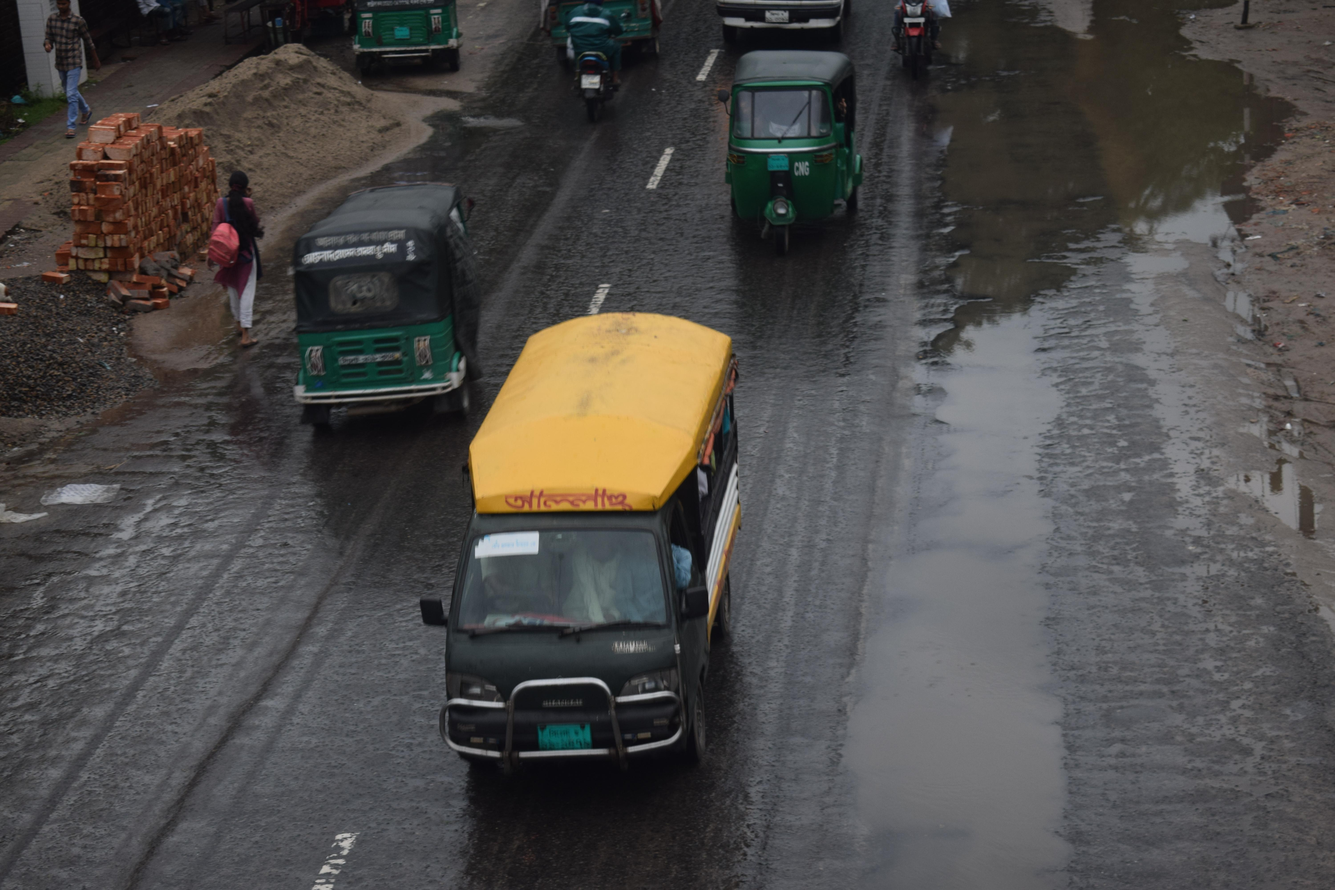Bike: (538, 0, 645, 129), (869, 0, 972, 89)
Car: (399, 278, 769, 804)
